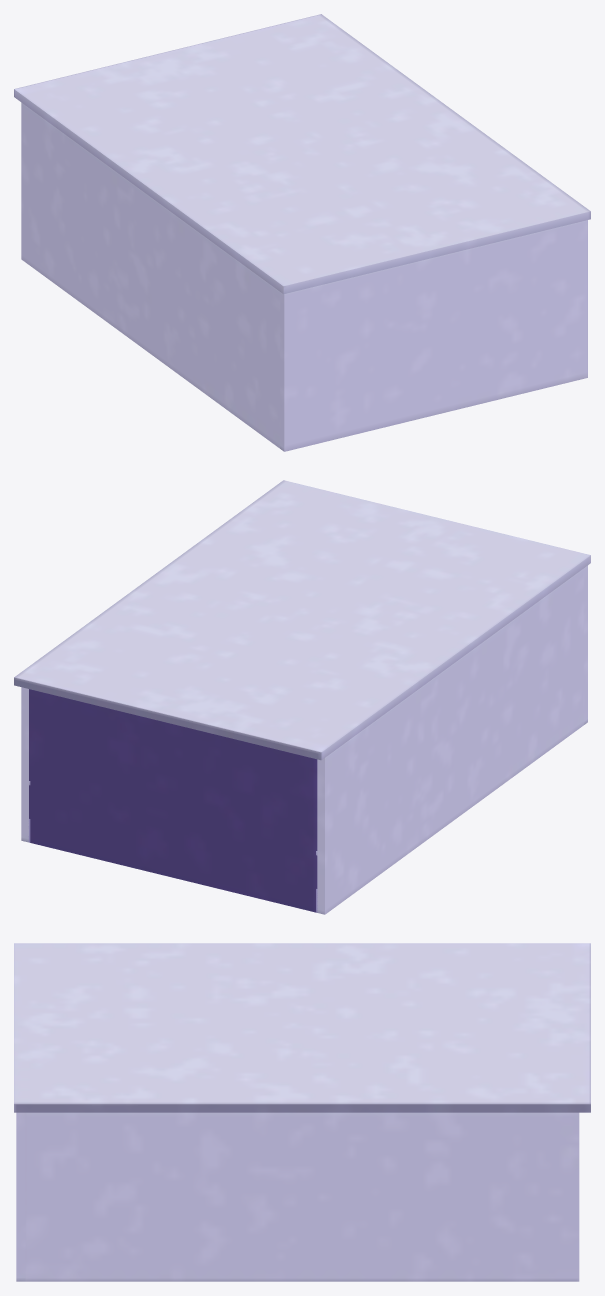
Rendered from ginasio.glb.
The picture shows the model from 3 angles, top to bottom: view 1: azimuth 30°, elevation 25°; view 2: azimuth 150°, elevation 25°; view 3: azimuth 270°, elevation 25°; orthographic projection. The views are drawn at different scales.
Parts seen in each view (by area): view 1: paredes; view 2: paredes; view 3: paredes.
Part boxes in pixels (bbox=[...]): paredes: bbox=[14, 14, 590, 451]; paredes: bbox=[14, 480, 590, 914]; paredes: bbox=[14, 943, 590, 1281].
Size of the model in its own units: 16.2 by 8.47 by 24.6.
Materials: 76 (76 with a texture image).
